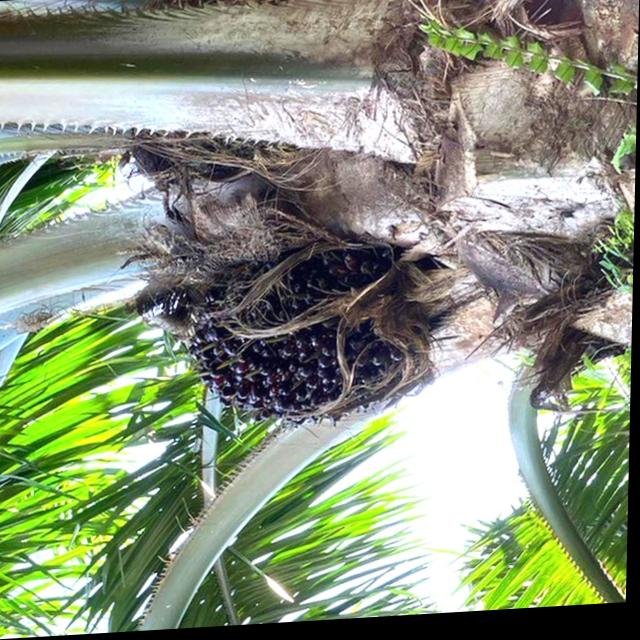ripe: (172, 237, 445, 445)
